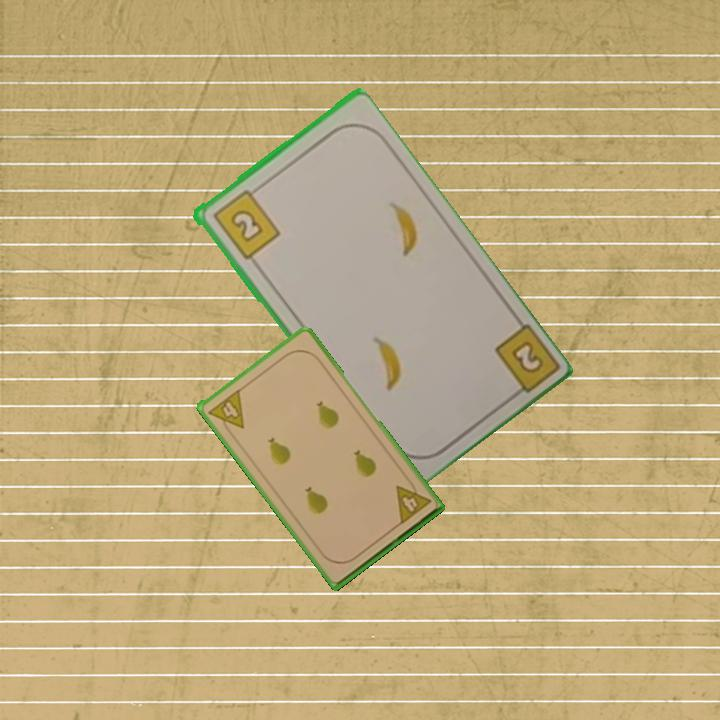2b: (208, 183, 283, 263), (490, 319, 559, 404)
4p: (204, 386, 247, 439), (392, 475, 434, 527)
